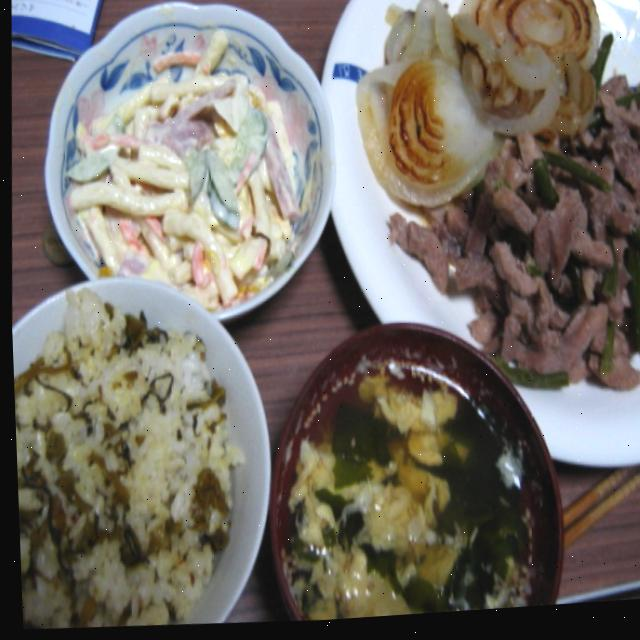汤锅炖物: (249, 316, 573, 627)
米饭主食: (8, 270, 288, 637)
蔬菜料理: (27, 0, 353, 340)
